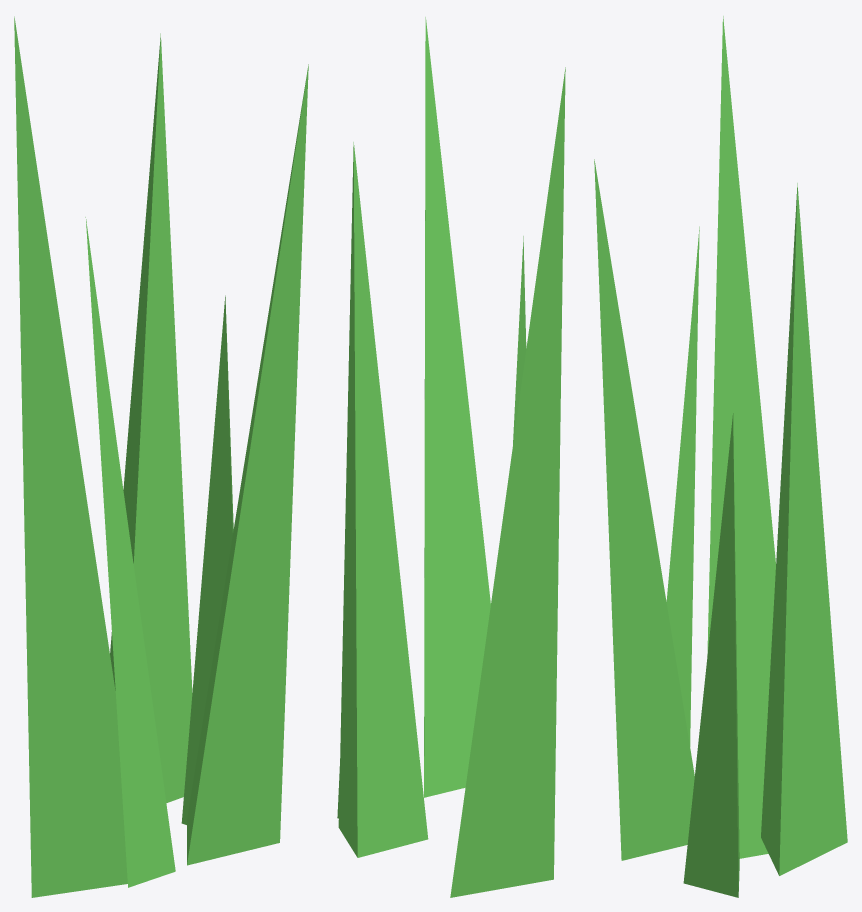
File: Grass.fbx
3 renders of one model, left to right at view 1: azimuth 30°, elevation 25°; view 2: azimuth 150°, elevation 25°; view 3: azimuth 270°, elevation 25°, orthographic. The views are drawn at different scales.
Visible parts, largest first — view 1: Grass.001, Grass, Grass.002, Grass.004, Grass.003; view 2: Grass.001, Grass.002, Grass, Grass.004; view 3: Grass.002, Grass, Grass.001, Grass.003, Grass.004.
Boxes of the visible parts, x1,y1,x2,y2 form: Grass.001: (14, 16, 127, 897); Grass: (187, 64, 308, 865); Grass.002: (110, 33, 192, 803); Grass.004: (85, 217, 175, 887); Grass.003: (181, 295, 233, 824); Grass.001: (450, 67, 565, 897); Grass.002: (338, 142, 428, 857); Grass: (424, 17, 490, 797); Grass.004: (513, 236, 526, 443); Grass.002: (761, 183, 847, 875); Grass: (594, 159, 694, 860); Grass.001: (707, 16, 775, 858); Grass.003: (683, 413, 739, 897); Grass.004: (666, 226, 699, 746).
Size of the model in its own units: 63.25 by 64.75 by 225.
